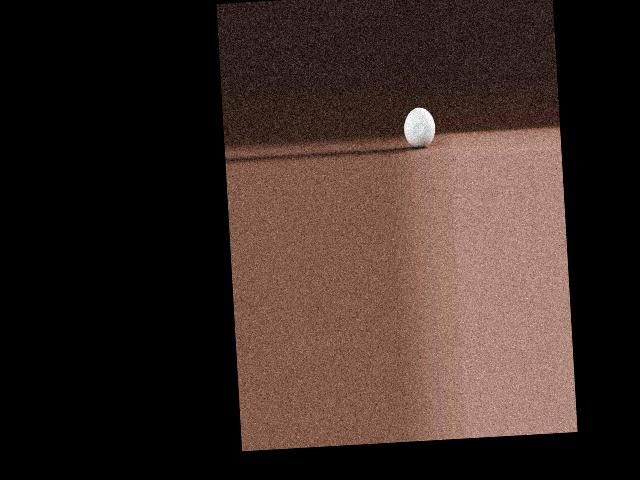egg: (402, 106, 436, 148)
